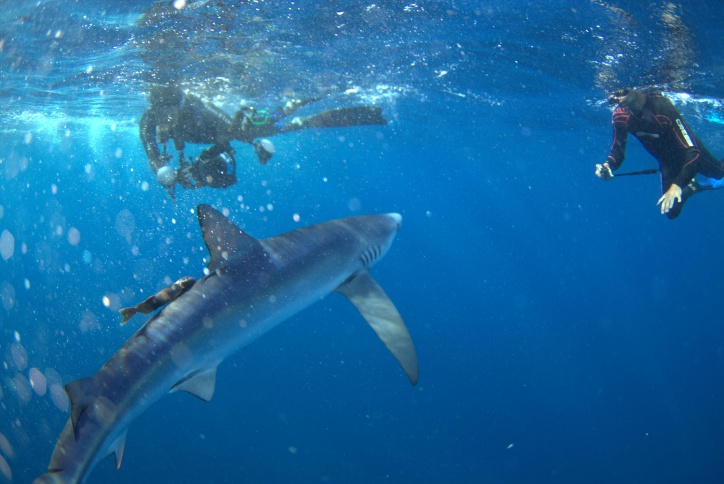Azul: (45, 181, 449, 484)
